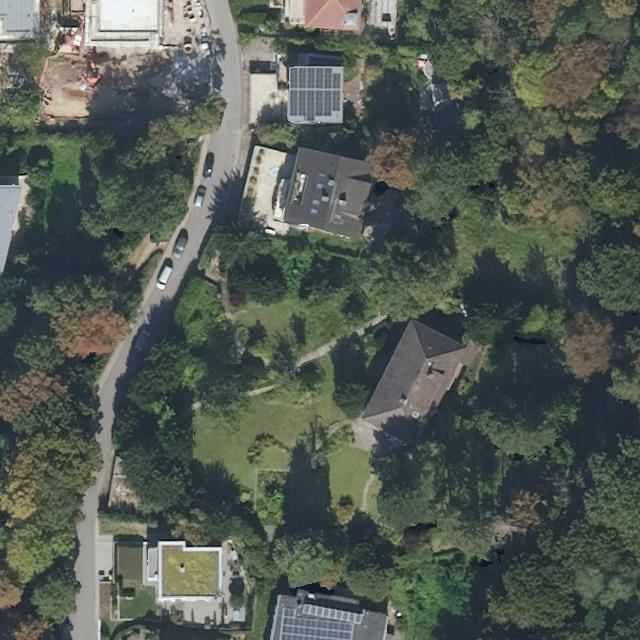PV: (287, 66, 341, 124), (278, 605, 355, 639), (299, 601, 365, 627)
